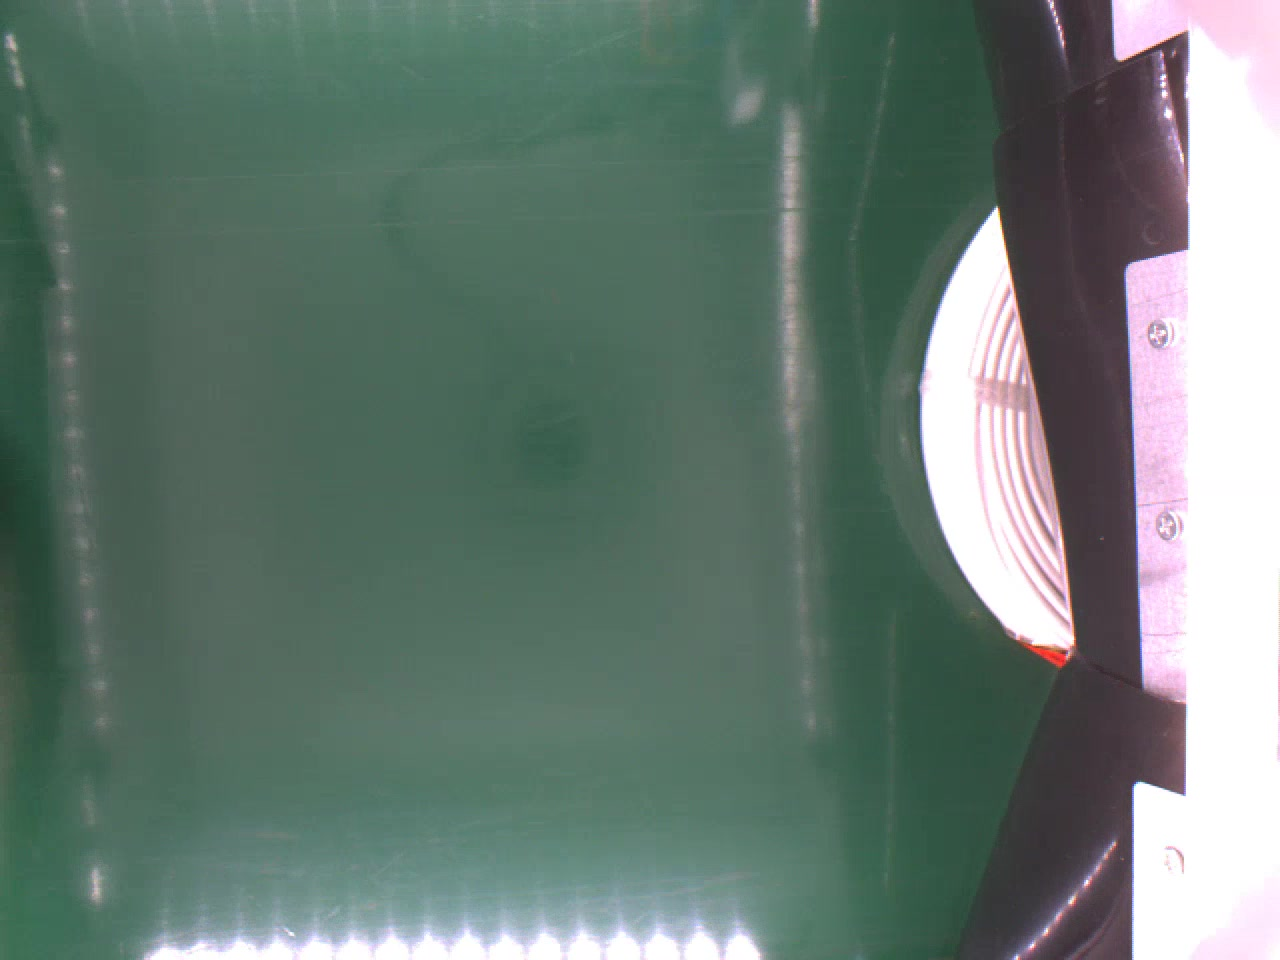white: (920, 202, 1076, 667)
